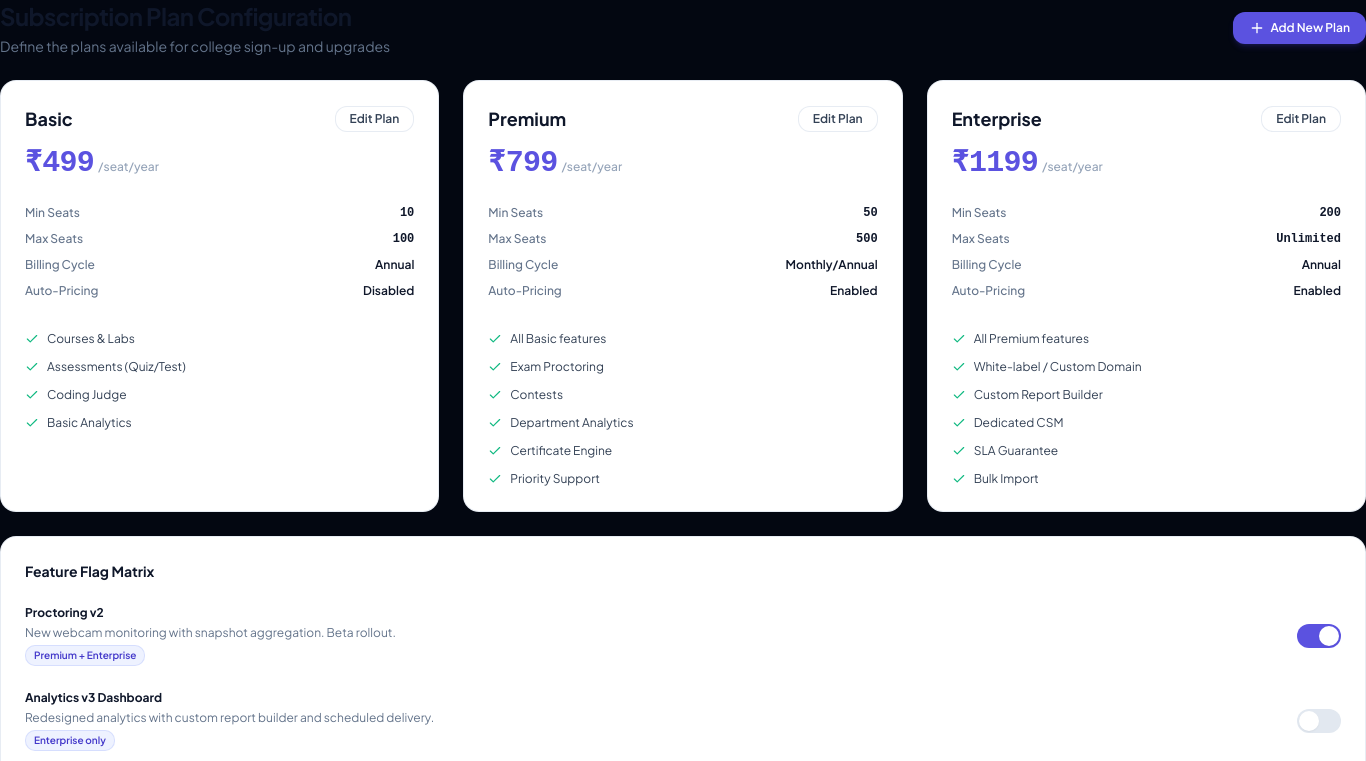
Test: PlanConfigurationPage › opens Create Plan modal, validates input, and submits
The image size is (1366, 761).
Expected: the heading "Basic" is shown, [25,105,73,133]
Open create modal
Click the button "Add New Plan": (1299, 28) [1232,12,1365,44]
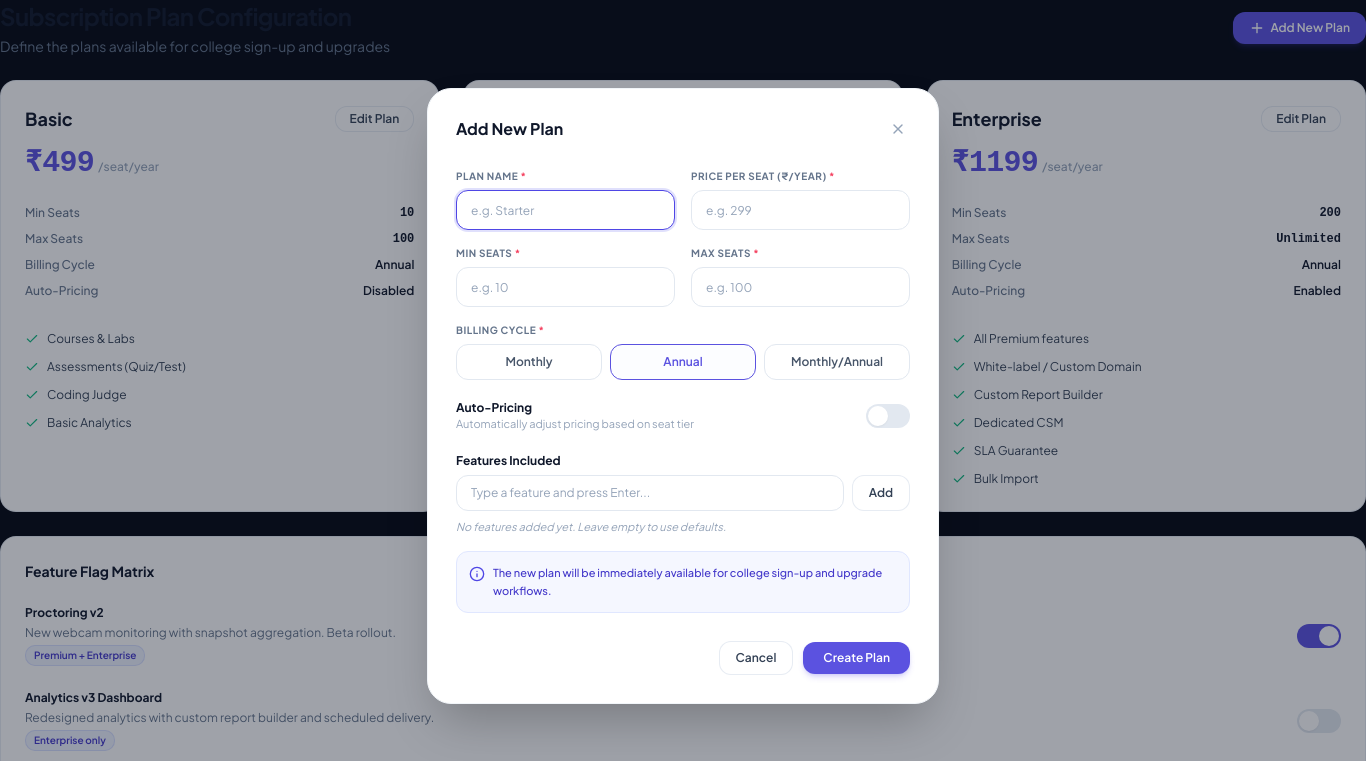
Expected: the heading "Add New Plan" is shown, [456,117,563,141]
Fill form
In the field with placeholder "e.g. Starter": (566, 210) [456,190,675,230], type "Custom Tier"
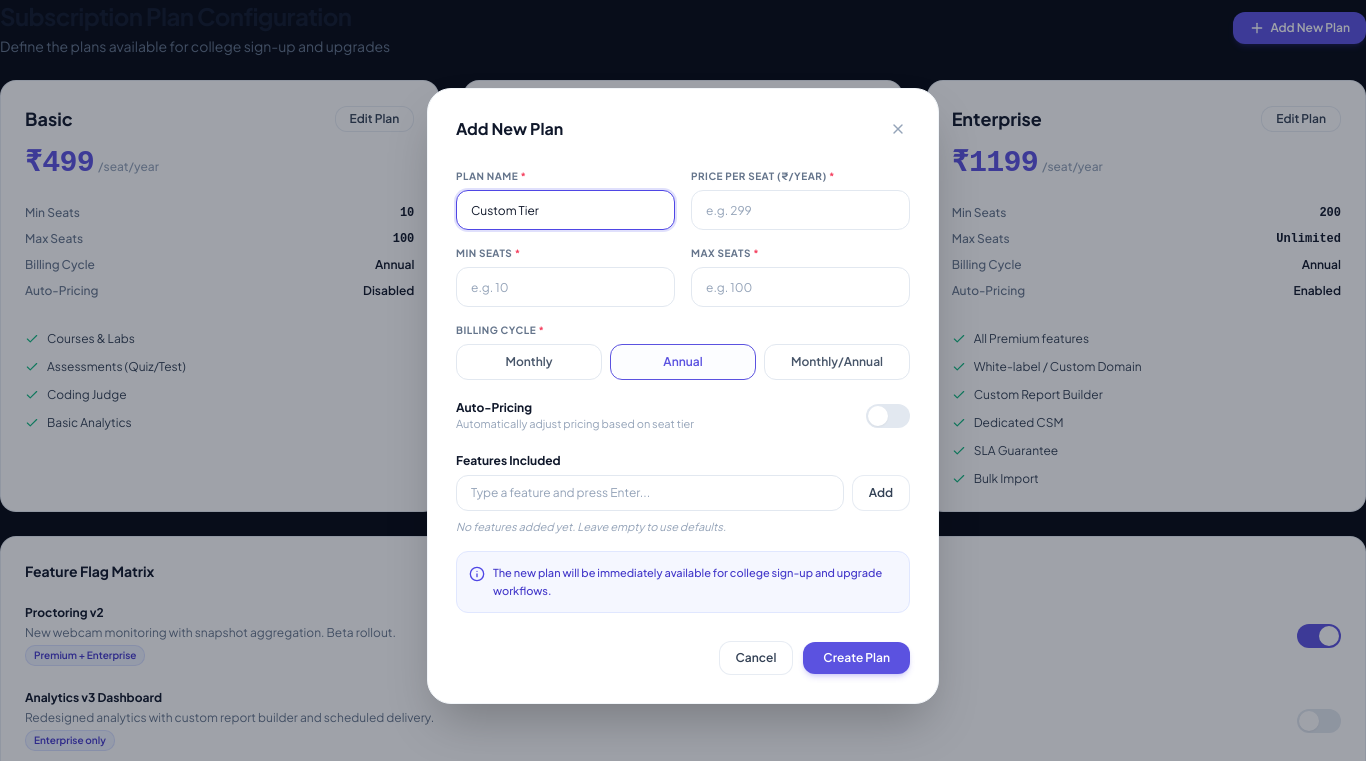
In the field with placeholder "e.g. 299": (800, 210) [691,190,910,230], type "499"
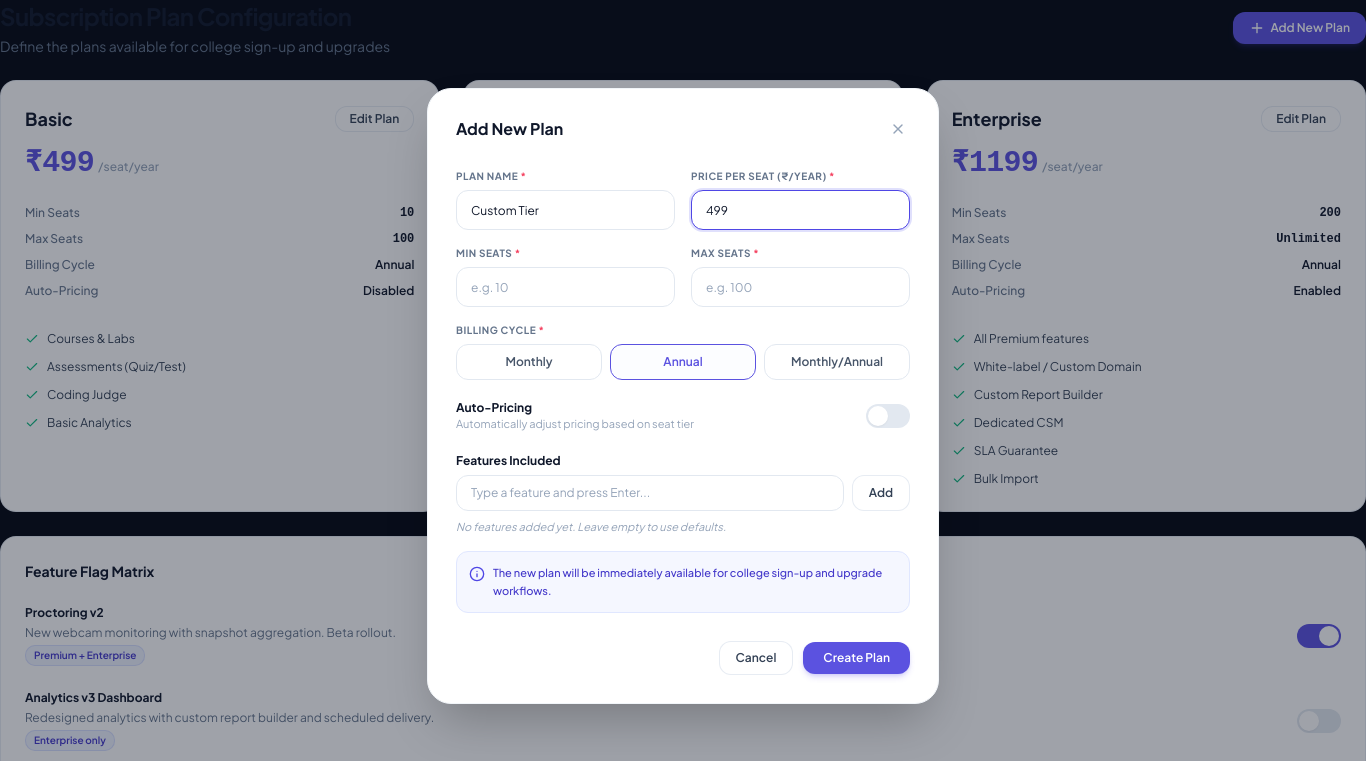
Click the button "Create Plan": (857, 658) [803,642,910,674]
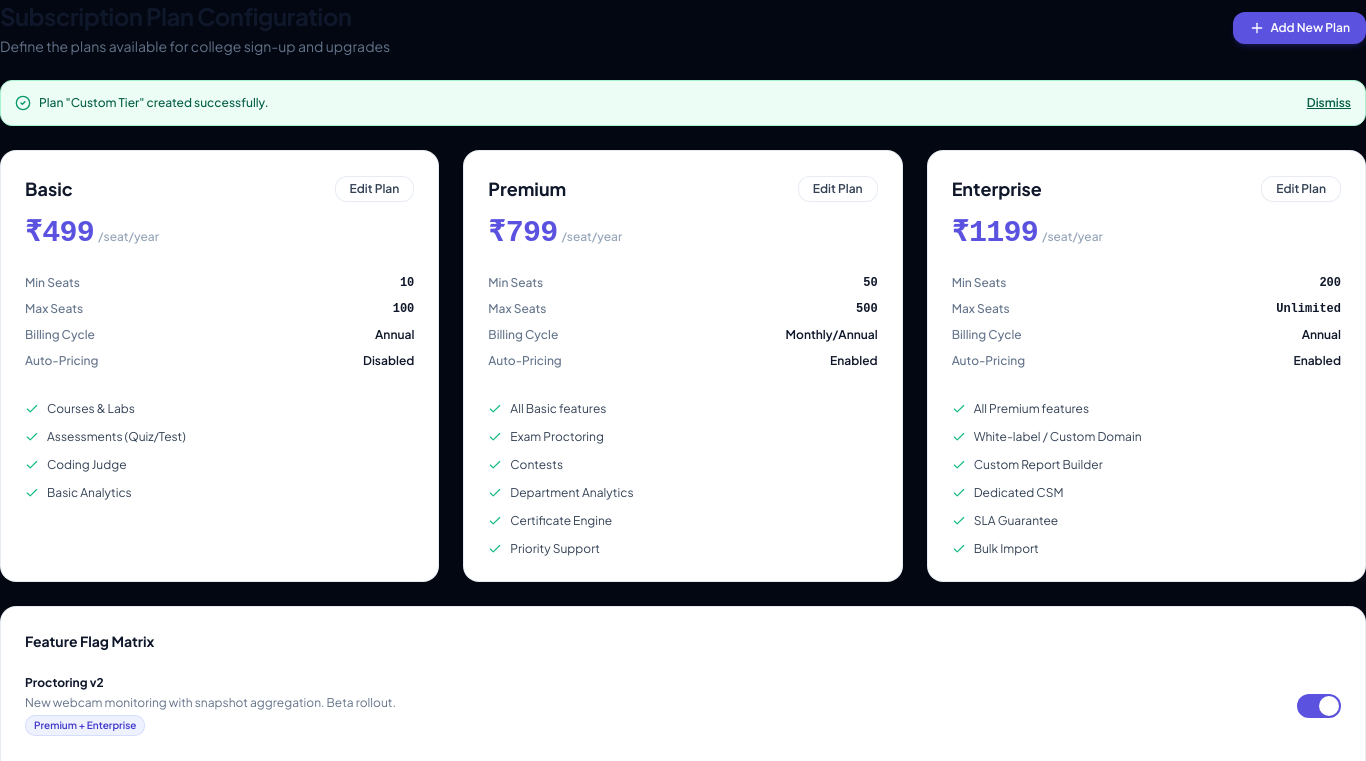
Expected: the text "Plan \"Custom Tier\" created successfully." is shown, [39,95,269,111]
